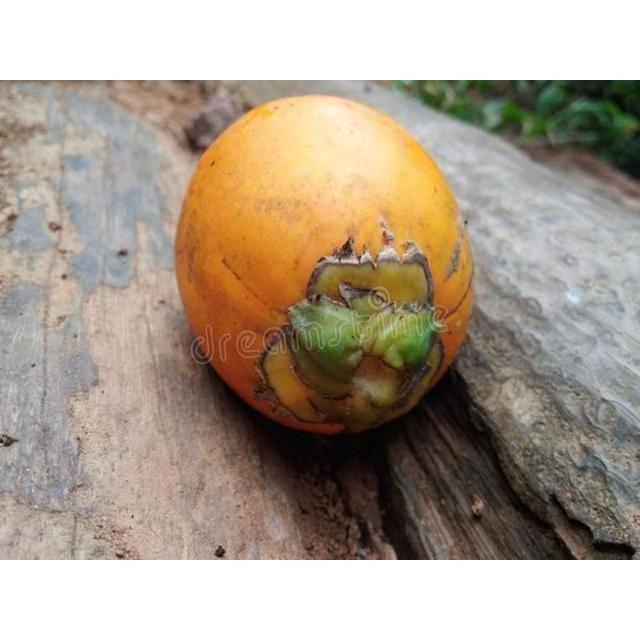good: (174, 94, 476, 439)
